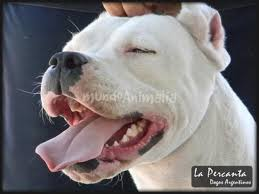dog: (27, 1, 225, 166)
